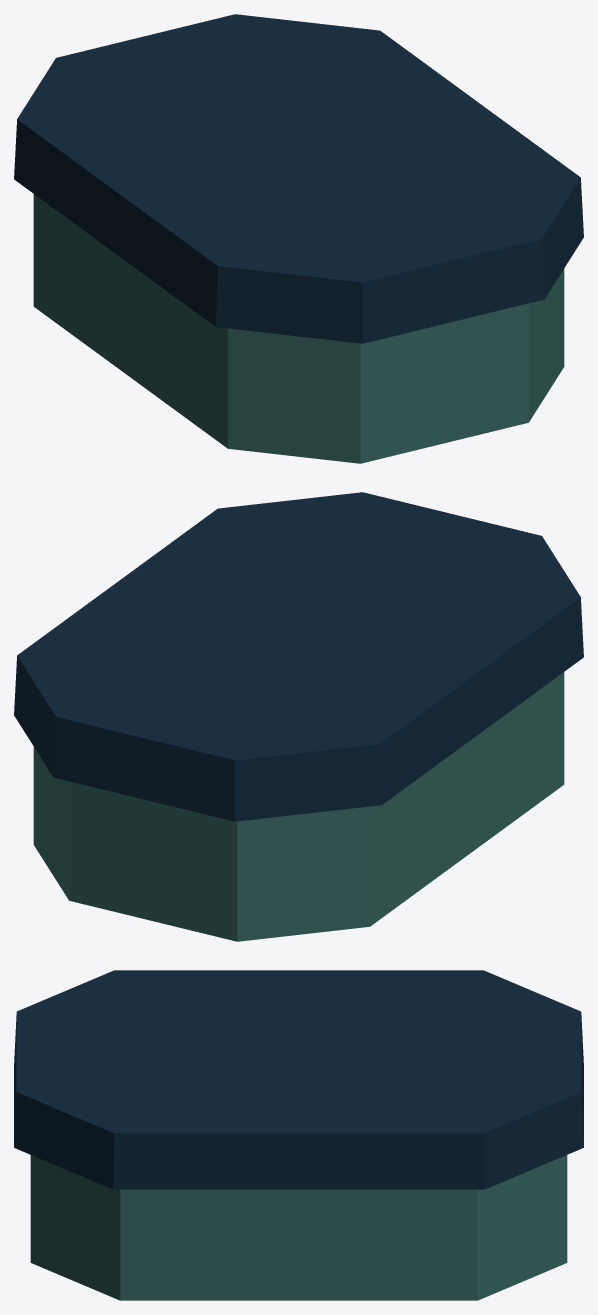
The model's file is Kitchen-Tupperware-Large_01.fbx.
3 views of the same model, one above another, from view 1: azimuth 30°, elevation 25°; view 2: azimuth 150°, elevation 25°; view 3: azimuth 270°, elevation 25° (orthographic). The views are drawn at different scales.
Parts seen in each view (by area): view 1: Tupperware_01; view 2: Tupperware_01; view 3: Tupperware_01.
Boxes of the visible parts, x1,y1,x2,y2 form: Tupperware_01: (14, 14, 583, 463); Tupperware_01: (14, 492, 583, 941); Tupperware_01: (14, 970, 583, 1300).
Size of the model in its own units: 21.88 by 10.69 by 31.88.
